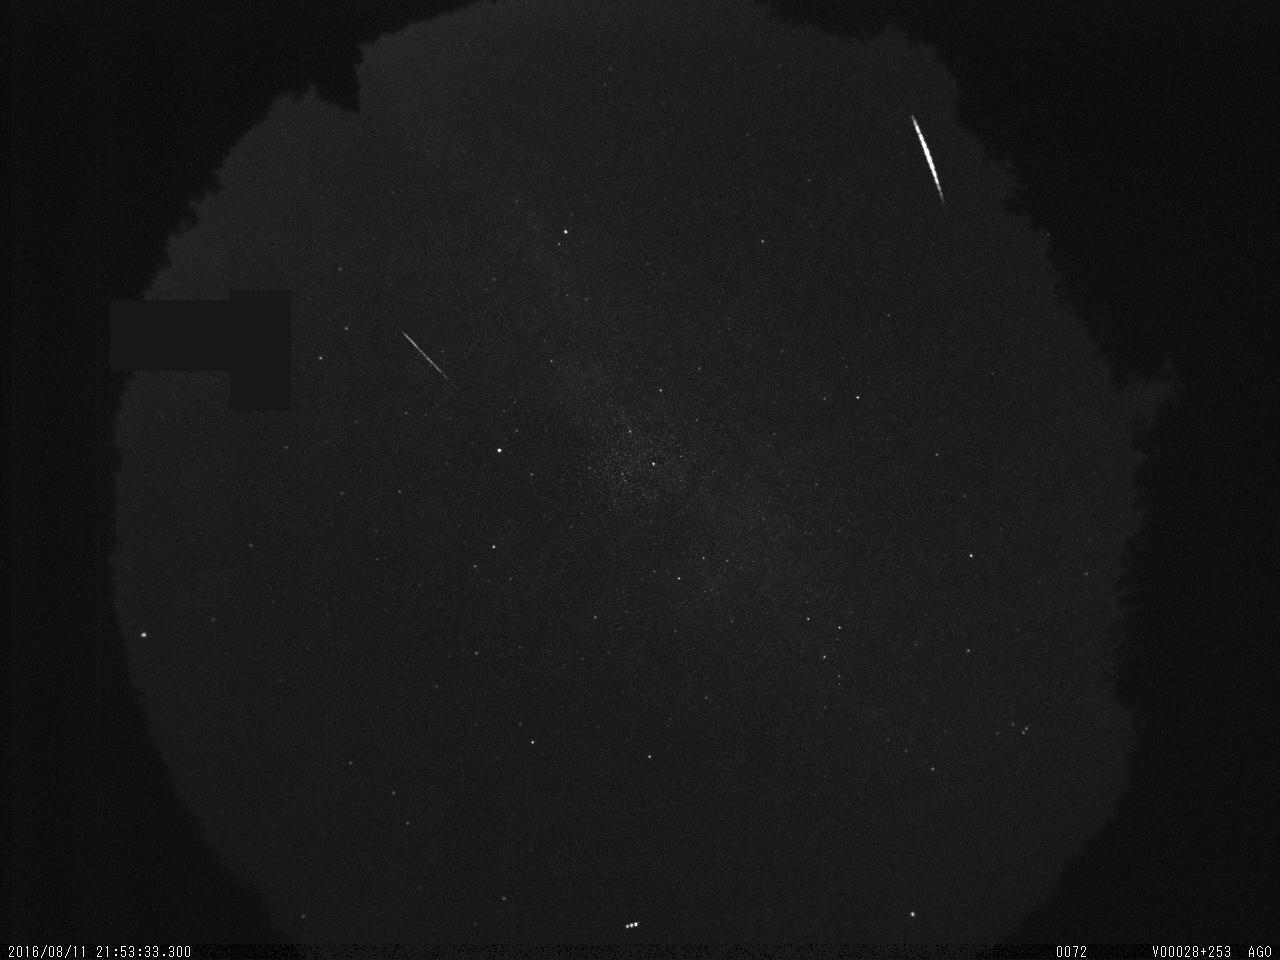Meteor: (397, 325, 480, 407), (908, 113, 947, 205)
